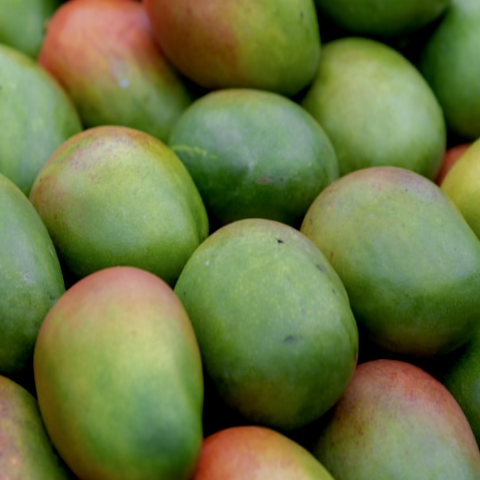mango: (156, 213, 372, 428), (18, 262, 224, 478), (298, 149, 480, 379), (158, 64, 349, 226)
